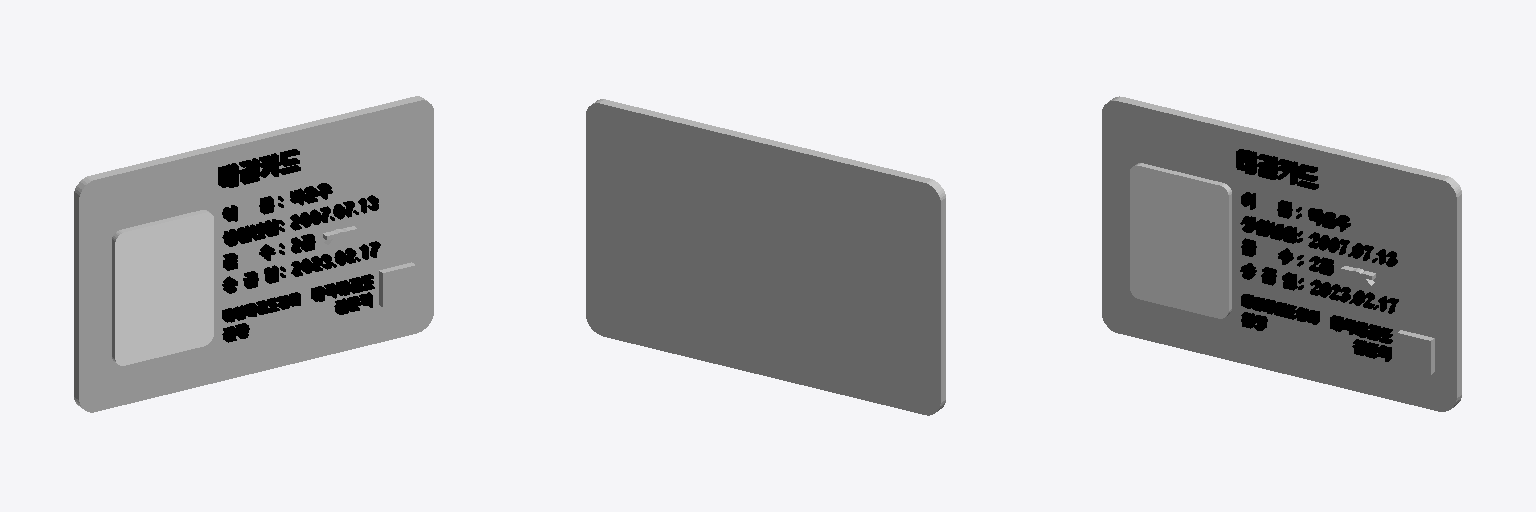
File: card_000002.obj
3 views of the same model, side by side, from view 1: azimuth 30°, elevation 25°; view 2: azimuth 150°, elevation 25°; view 3: azimuth 330°, elevation 25° (orthographic).
Parts seen in each view (by area): view 1: Plane, Plane.001, Text.014, Cube; view 2: Plane; view 3: Plane, Plane.001, Text.014, Cube.
Part boxes in pixels (bbox=[...]): Plane: bbox=[74, 96, 433, 412]; Plane.001: bbox=[112, 210, 213, 365]; Text.014: bbox=[218, 149, 380, 342]; Cube: bbox=[379, 262, 415, 306]; Plane: bbox=[586, 99, 945, 415]; Plane: bbox=[1102, 96, 1461, 411]; Plane.001: bbox=[1130, 163, 1231, 318]; Text.014: bbox=[1236, 149, 1398, 361]; Cube: bbox=[1397, 330, 1434, 374].
Size of the model in its own units: 4.98 by 3.11 by 0.2344.